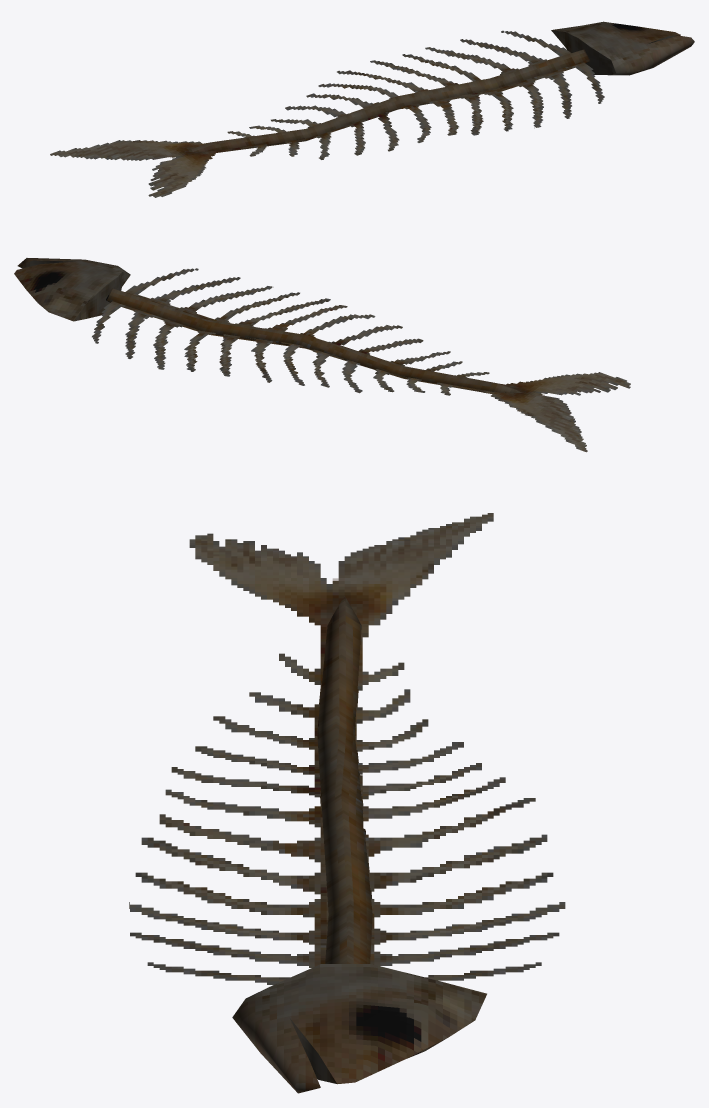
File: fish_skeleton_mp_1.glb
The picture shows the model from 3 angles, top to bottom: view 1: azimuth 30°, elevation 25°; view 2: azimuth 150°, elevation 25°; view 3: azimuth 270°, elevation 25°; orthographic projection. The views are drawn at different scales.
Visible parts, largest first — view 1: fish_skeleton_mp_1; view 2: fish_skeleton_mp_1; view 3: fish_skeleton_mp_1.
Boxes of the visible parts, bbox=[...] form: fish_skeleton_mp_1: bbox=[50, 21, 694, 197]; fish_skeleton_mp_1: bbox=[14, 258, 630, 452]; fish_skeleton_mp_1: bbox=[129, 513, 565, 1093].
Size of the model in its own units: 0.5197 by 0.0231 by 0.166.
Materials: 1 (1 with a texture image).
